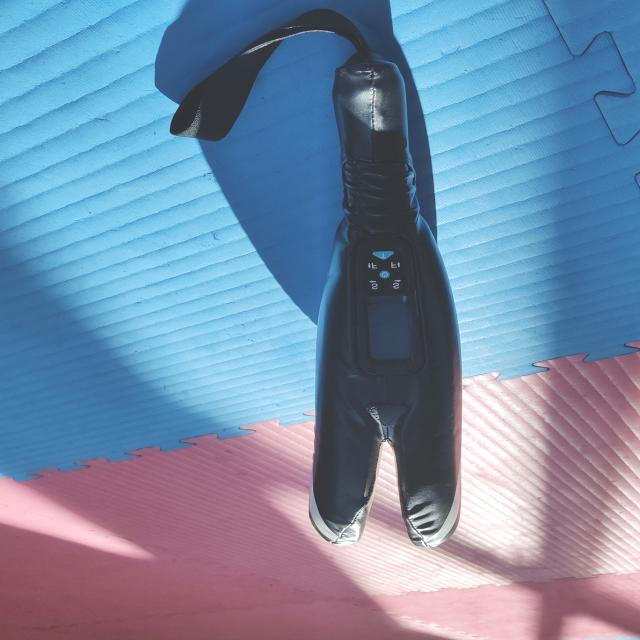paddle: (304, 56, 466, 552)
